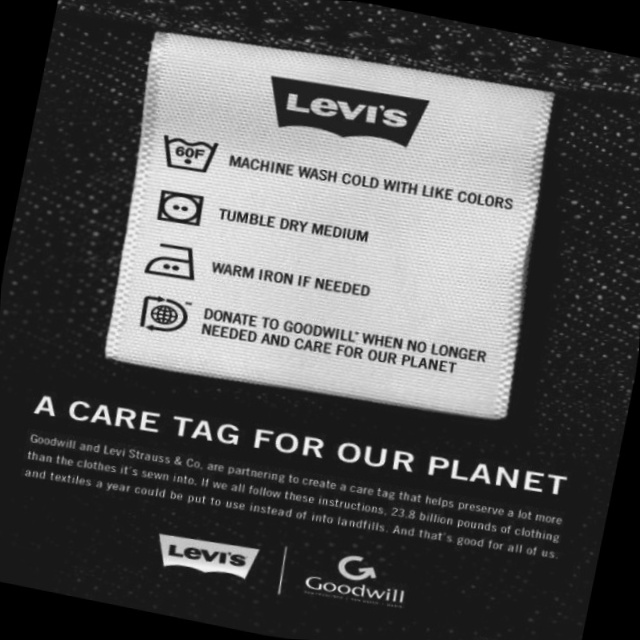30C: (155, 123, 226, 182)
iron_medium: (139, 233, 207, 290)
tumble_dry_medium: (149, 184, 212, 235)
